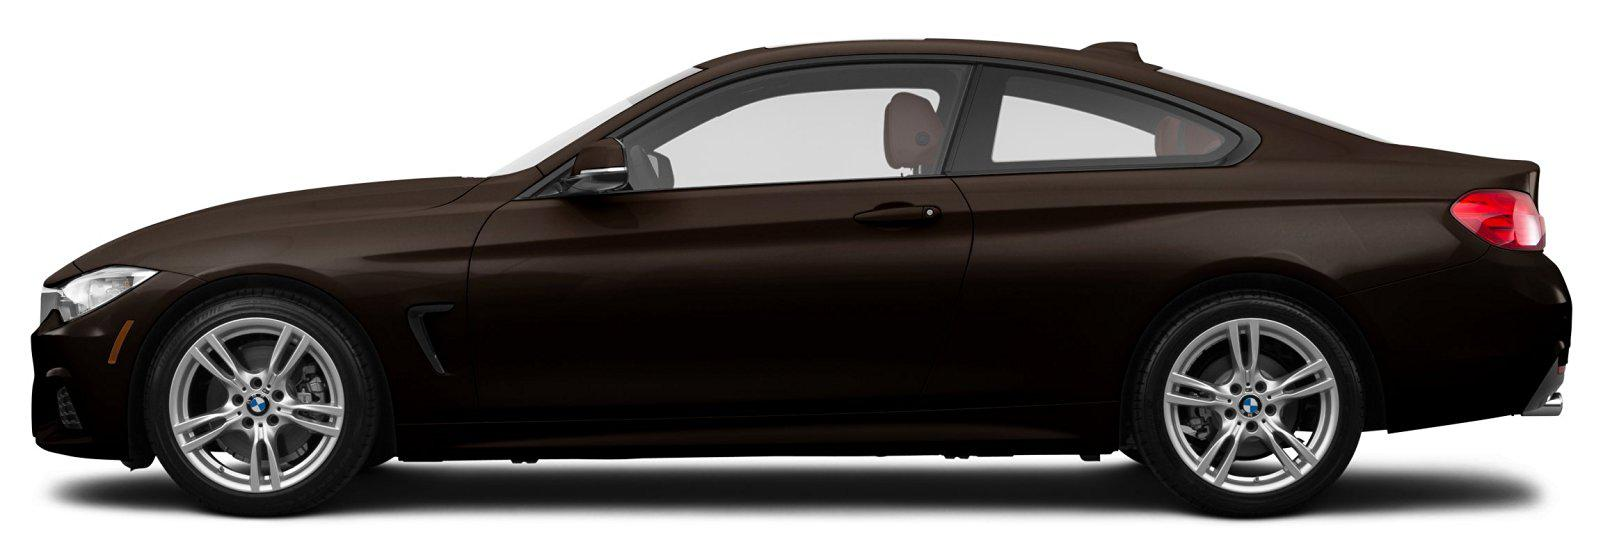bmw: (31, 25, 1594, 539)
